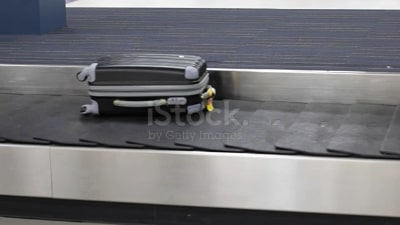baggage: (70, 51, 220, 127)
